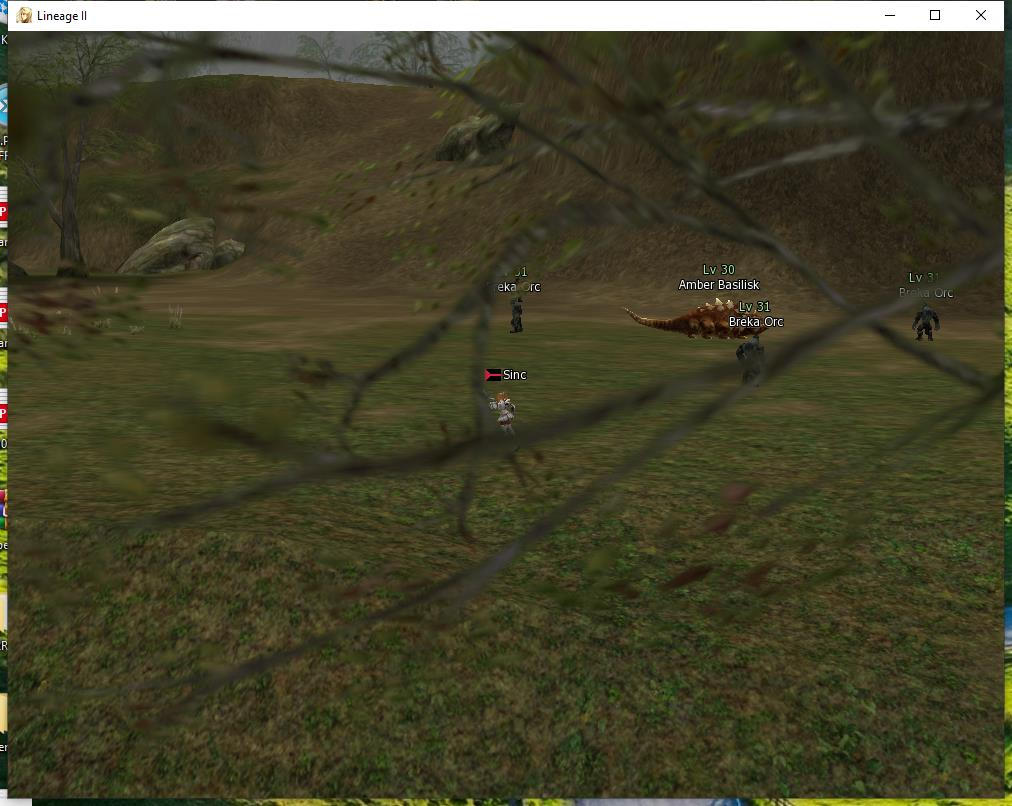monster: (625, 252, 774, 337), (716, 303, 791, 397), (884, 266, 966, 348), (481, 248, 550, 343)
